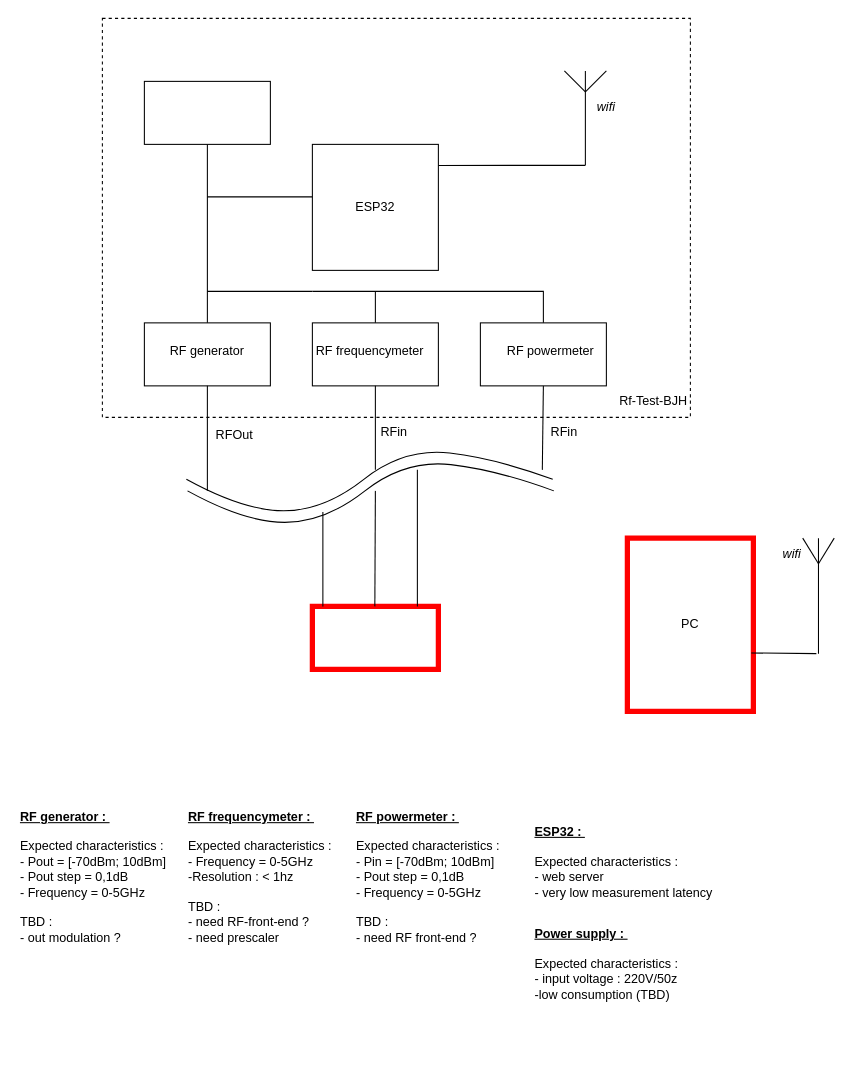
This 854x1087 diagram has some shape labels left out. The shapes that lost their labels are listed below. From the top down, each one's box as (x1, y1, x2, y2) in pixels, then its label:
(143, 80, 270, 144): Power supply
(309, 603, 440, 671): DUT
